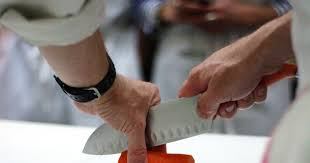knife: (81, 56, 303, 158)
